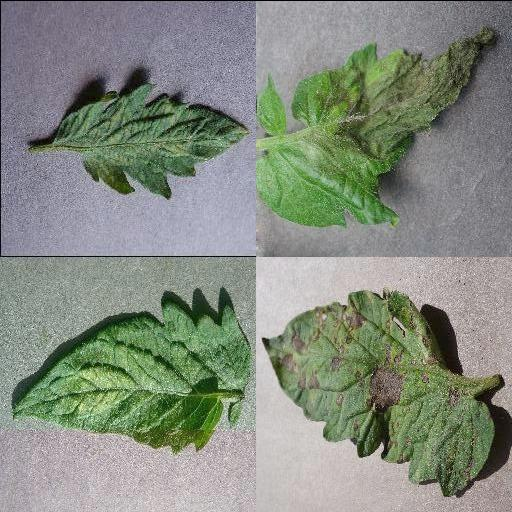Early Blight: (259, 288, 497, 494)
Late Blight: (256, 23, 496, 227)
Mosaic Virus: (53, 82, 251, 201)
Spider Mites: (9, 304, 249, 452)
